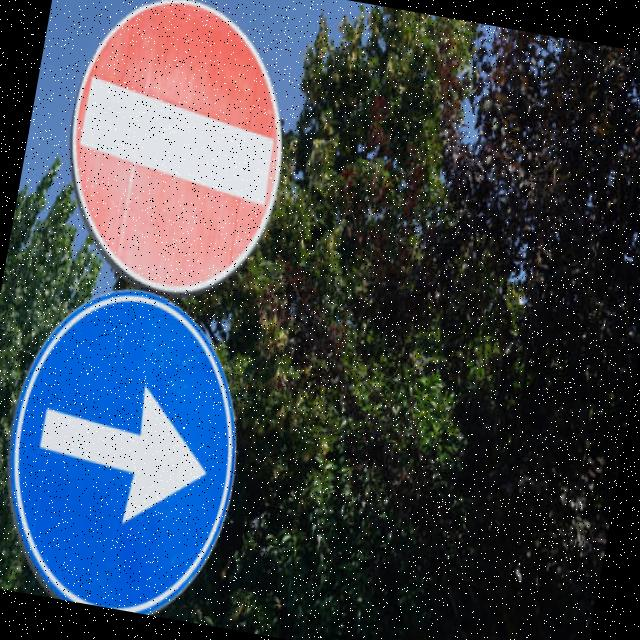compulsory_keep_right: (0, 266, 273, 627)
do_not_enter: (43, 0, 320, 309)
